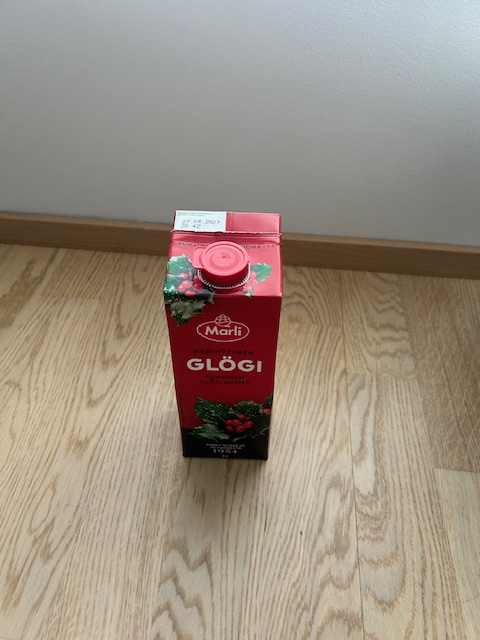Dryckeskartong: (162, 210, 283, 461)
